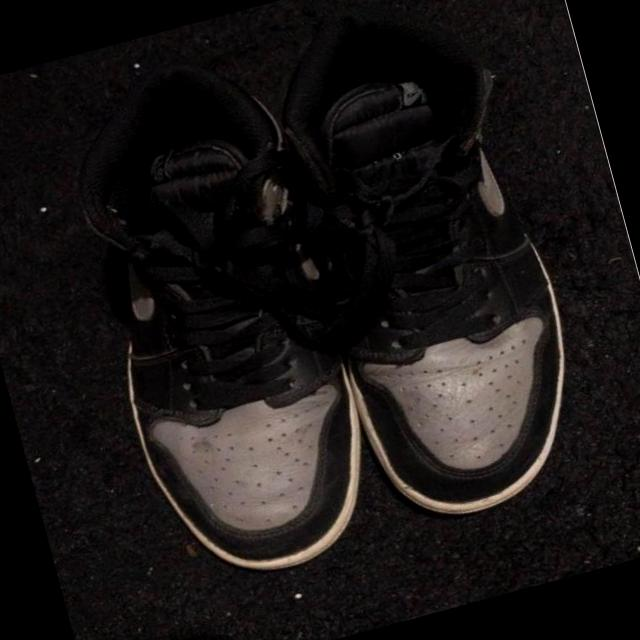nike_fake_jordan: (256, 0, 618, 539), (48, 45, 398, 600)
